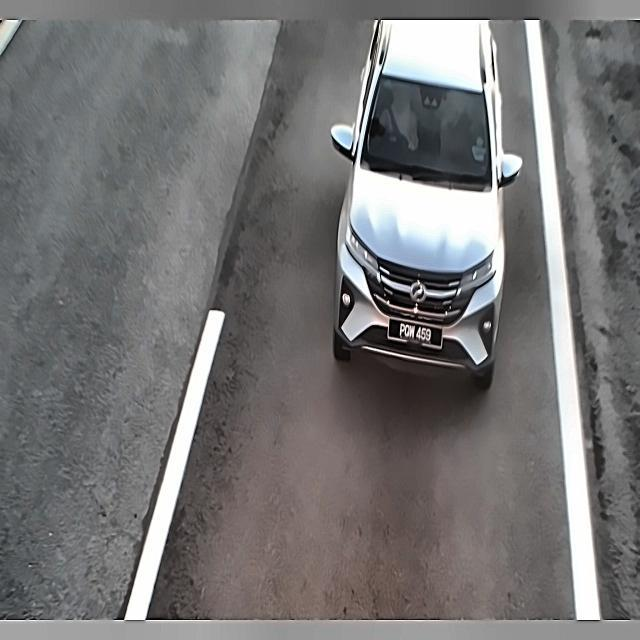car: (384, 307, 451, 355)
